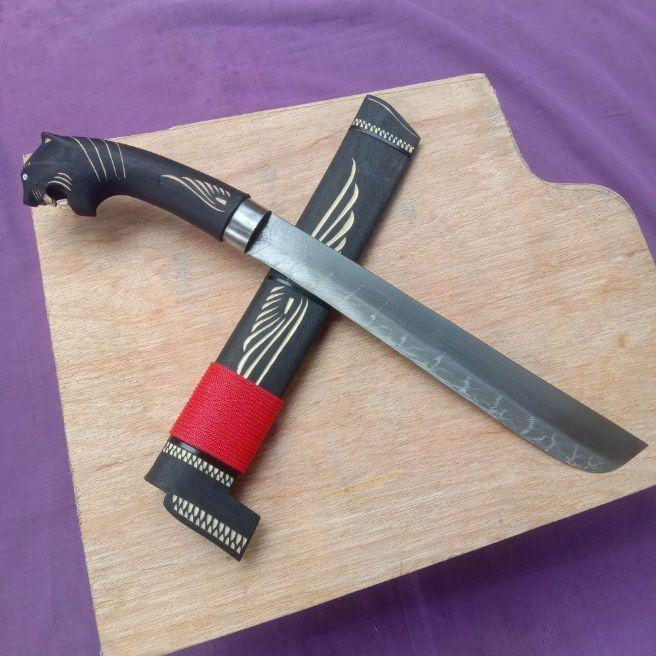facao: (35, 136, 642, 477)
